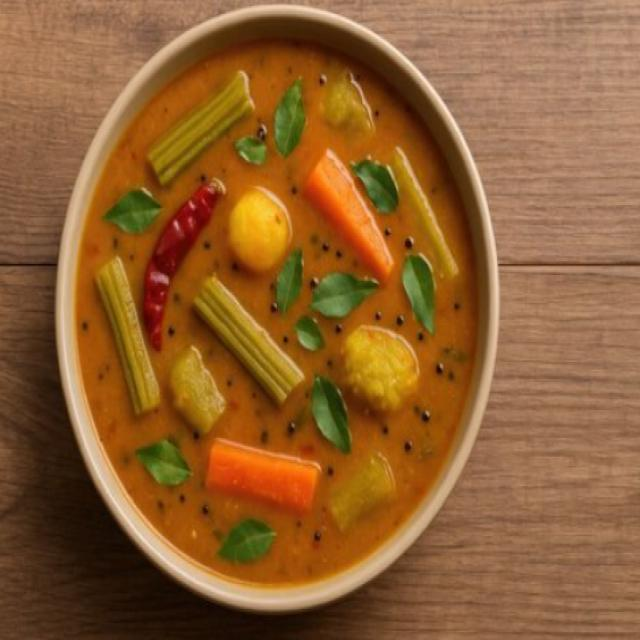sambar: (114, 39, 476, 640)
